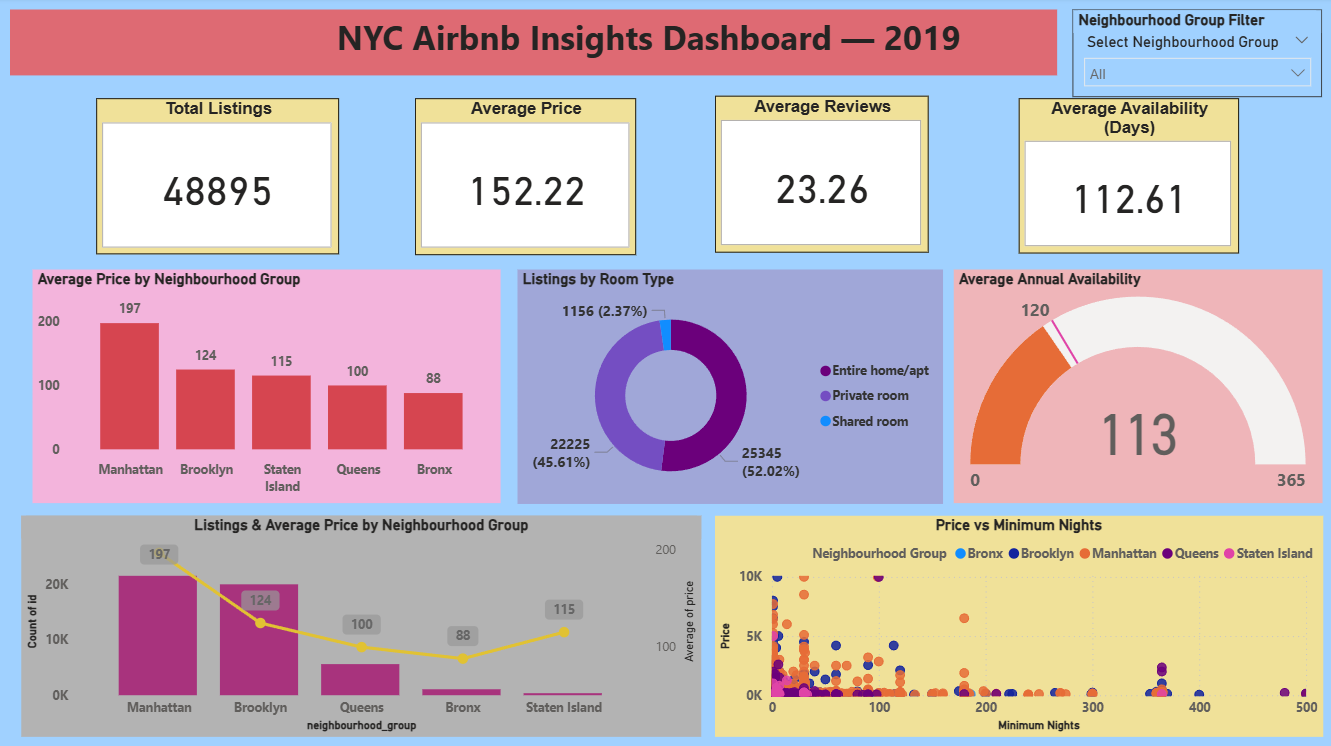

What the dashboard file says about the page in this screenshot:
{"tool":"powerbi","page":{"name":"Airbnb Insights Dashboard","canvas":[1280,720],"ordinal":0},"visuals":[{"type":"textbox","box":[10.1,11.5,1004.2,63.5],"z":0},{"type":"cardVisual","title":"Average Price","fields":{"Data":["Avg(airbnb_nyc_2019_cleaned.price)"]},"box":[398.2,96.7,212.1,150],"z":1000},{"type":"cardVisual","title":"Total Listings","fields":{"Data":["CountNonNull(airbnb_nyc_2019_cleaned.id)"]},"box":[92.3,97.1,232.5,149.8],"z":2000},{"type":"cardVisual","title":"Average Reviews","fields":{"Data":["Avg(airbnb_nyc_2019_cleaned.number_of_reviews)"]},"box":[685.3,95.2,204.9,150],"z":3000},{"type":"cardVisual","title":"Average Availability (Days)","fields":{"Data":["Avg(airbnb_nyc_2019_cleaned.availability_365)"]},"box":[976.8,97.1,210.9,148.6],"z":4000},{"type":"clusteredColumnChart","title":"Average Price by Neighbourhood Group","fields":{"Y":["Avg(airbnb_nyc_2019_cleaned.price)"],"Category":["airbnb_nyc_2019_cleaned.neighbourhood_group"]},"box":[31.7,261.1,448.7,223.6],"z":5000},{"type":"donutChart","title":"Listings by Room Type","fields":{"Category":["airbnb_nyc_2019_cleaned.room_type"],"Y":["CountNonNull(airbnb_nyc_2019_cleaned.id)"]},"box":[496.3,261.1,408.3,225.1],"z":6000},{"type":"gauge","title":"Average Annual Availability","fields":{"Y":["Avg(airbnb_nyc_2019_cleaned.availability_365)"],"MaxValue":["airbnb_nyc_2019_cleaned.Maximum Availability"],"TargetValue":["airbnb_nyc_2019_cleaned.Availability Target"]},"box":[914.7,261.1,353.5,223.6],"z":7000},{"type":"scatterChart","title":"Price vs Minimum Nights","fields":{"X":["airbnb_nyc_2019_cleaned.minimum_nights"],"Y":["airbnb_nyc_2019_cleaned.price"],"Series":["airbnb_nyc_2019_cleaned.neighbourhood_group"]},"box":[685.3,497.8,582.9,212.1],"z":8000},{"type":"slicer","title":"Neighbourhood Group Filter","fields":{"Values":["airbnb_nyc_2019_cleaned.neighbourhood_group"]},"box":[1028.7,11.5,239.5,83.7],"z":9000},{"type":"lineClusteredColumnComboChart","title":"Listings & Average Price by Neighbourhood Group","fields":{"Category":["airbnb_nyc_2019_cleaned.neighbourhood_group"],"Y":["CountNonNull(airbnb_nyc_2019_cleaned.id)"],"Y2":["Avg(airbnb_nyc_2019_cleaned.price)"]},"box":[20.2,497.8,652.1,212.1],"z":10000}]}

Visuals, with their boxes in screenshot pixels (x1, y1, x2, y2), scaled from the page's 1280x720 canvas onto the 1331x746 screenshot:
textbox: [11,12,1055,78]
"Average Price" cardVisual: [414,100,635,256]
"Total Listings" cardVisual: [96,101,338,256]
"Average Reviews" cardVisual: [713,99,926,254]
"Average Availability (Days)" cardVisual: [1016,101,1235,255]
"Average Price by Neighbourhood Group" clusteredColumnChart: [33,271,500,502]
"Listings by Room Type" donutChart: [516,271,941,504]
"Average Annual Availability" gauge: [951,271,1319,502]
"Price vs Minimum Nights" scatterChart: [713,516,1319,736]
"Neighbourhood Group Filter" slicer: [1070,12,1319,99]
"Listings & Average Price by Neighbourhood Group" lineClusteredColumnComboChart: [21,516,699,736]
